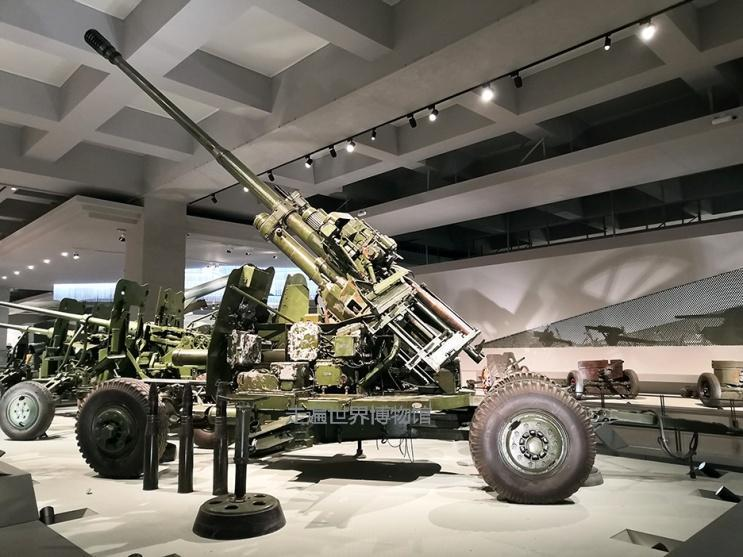MIL_SPG: (86, 30, 595, 504)
